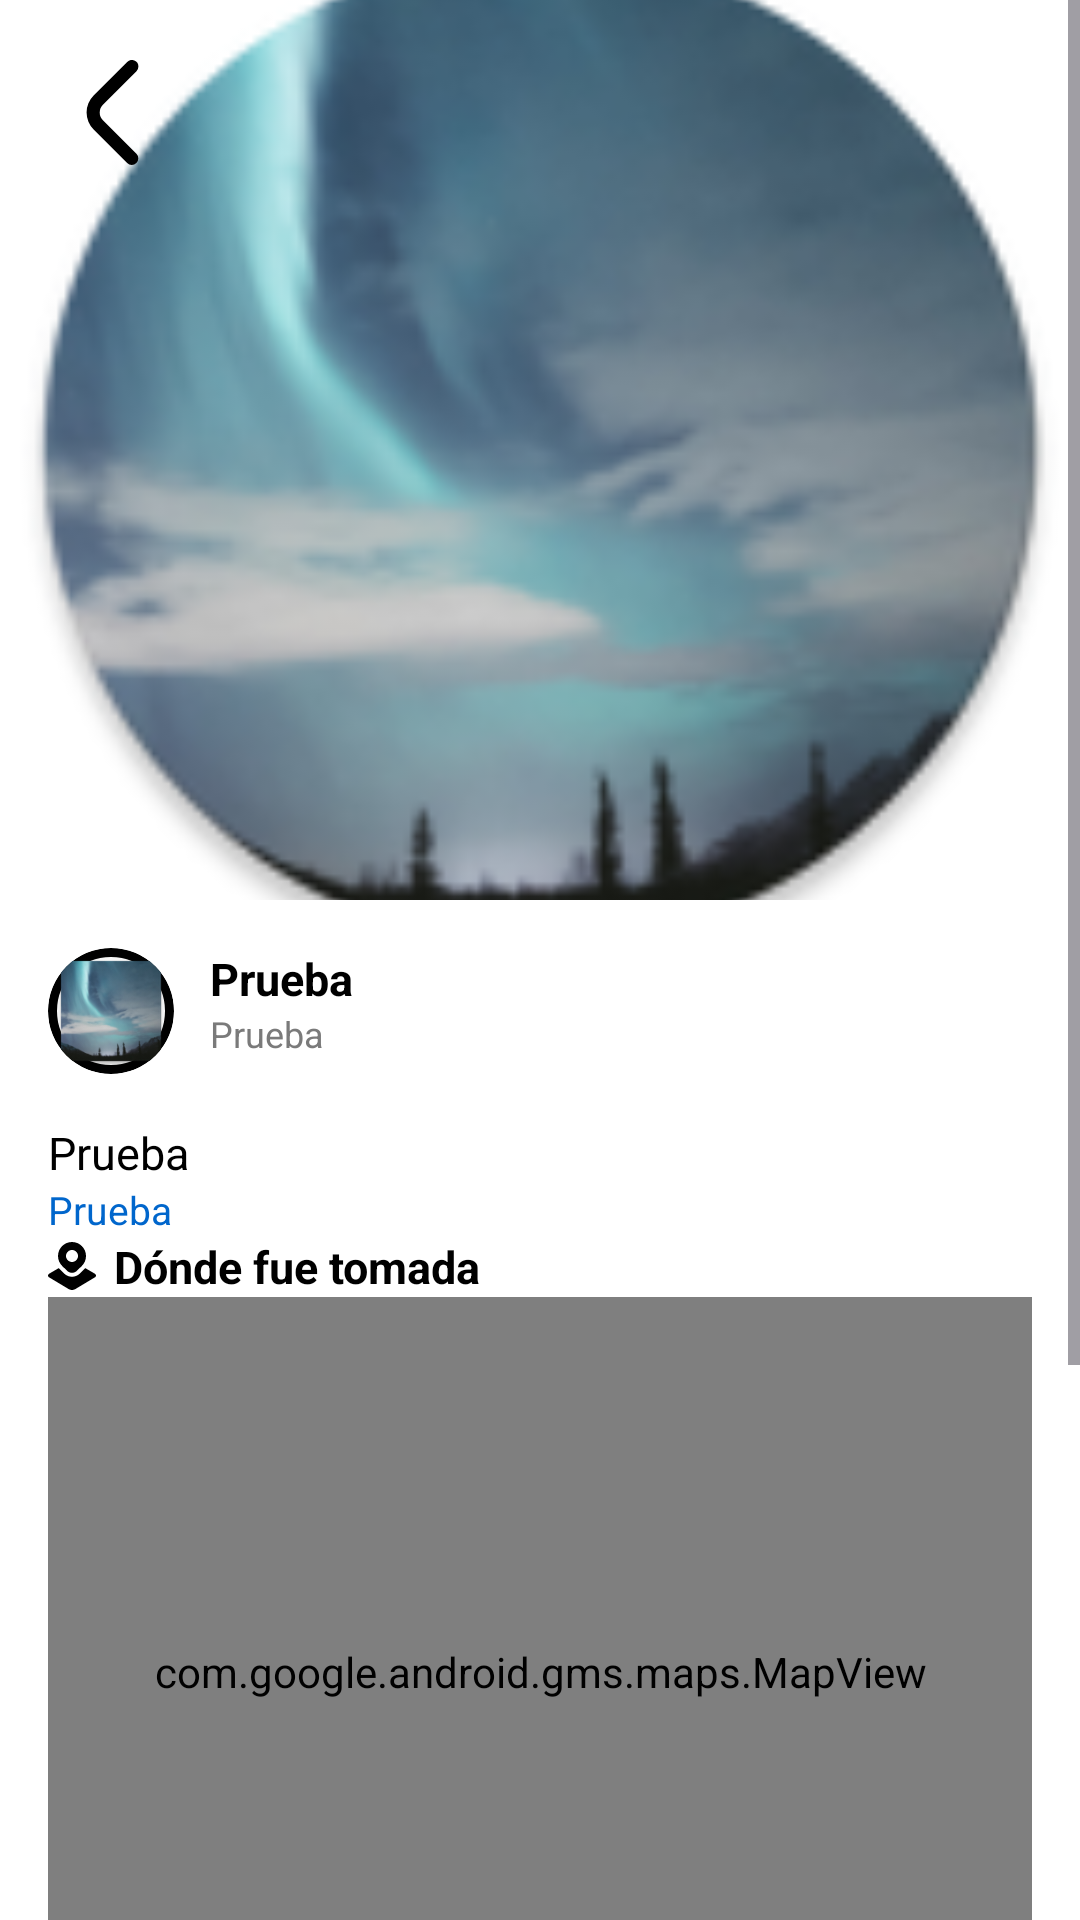

Where to tap for icons on this 1080x1920 app screen, as (x=x, y=y):
back: (x=143, y=130)
location: (x=72, y=1266)
